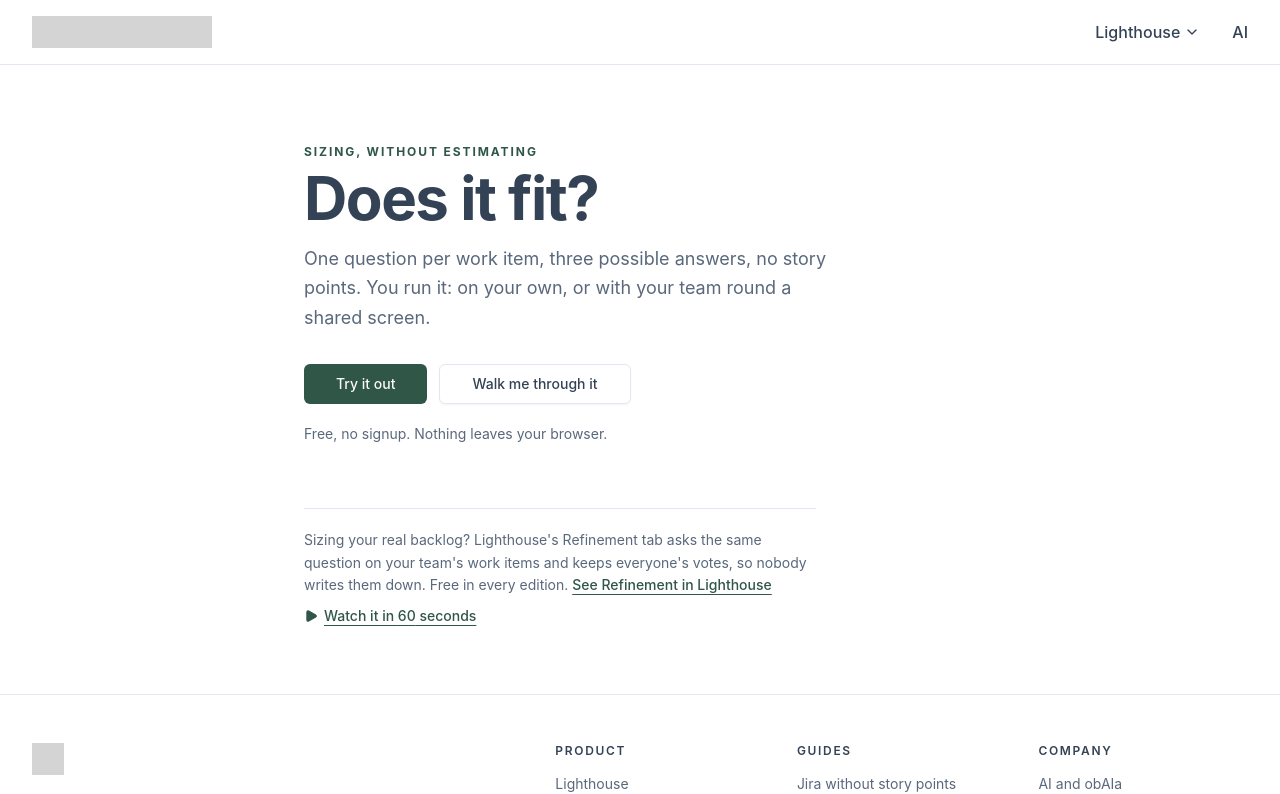
Test: the way in › tells the facilitator to collect answers simultaneously, before the round
This screenshot has width=1280, height=794.
What coordinates should you click on to do the following:
click the button "Try it out"
I would click on:
 (366, 384)
Its box is 304,364 -> 427,404.
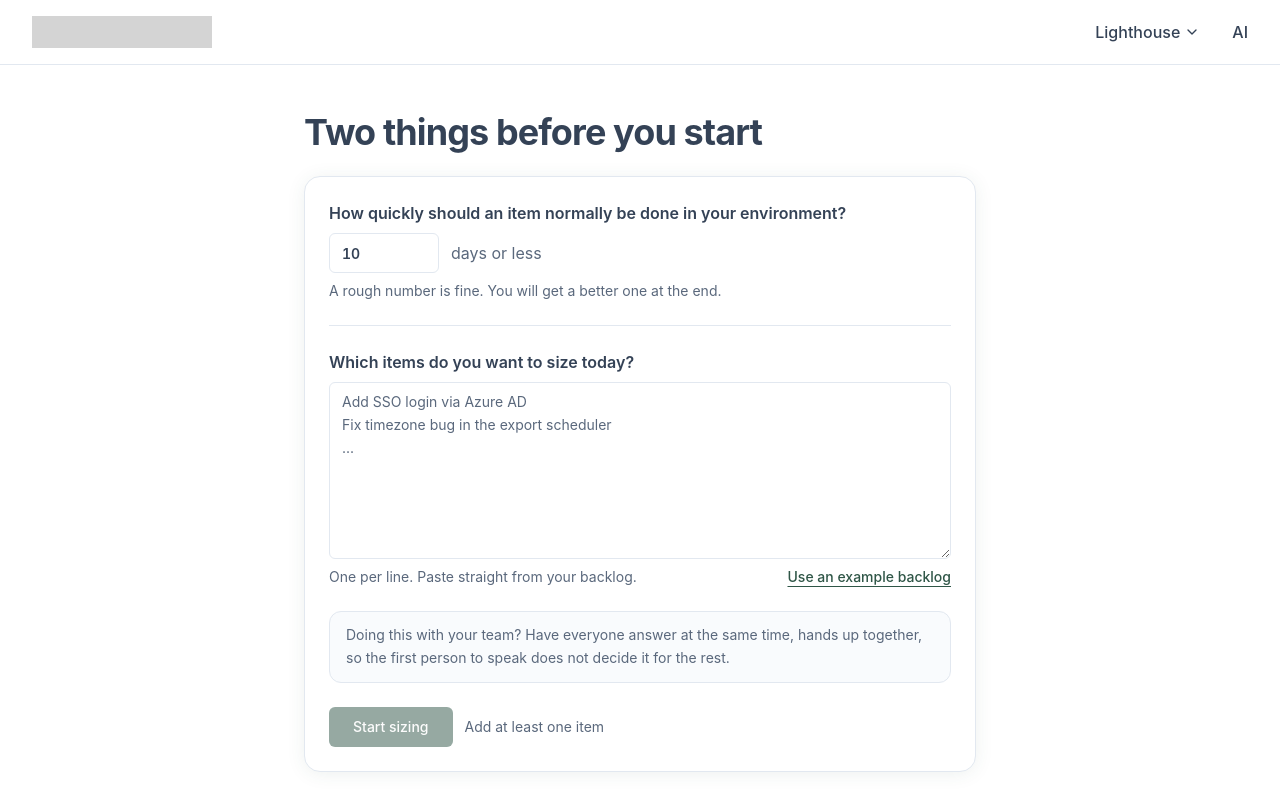
Expected: the text with test id "sizing-facilitation-hint" shows "at the same time", 346,626 -> 922,666
